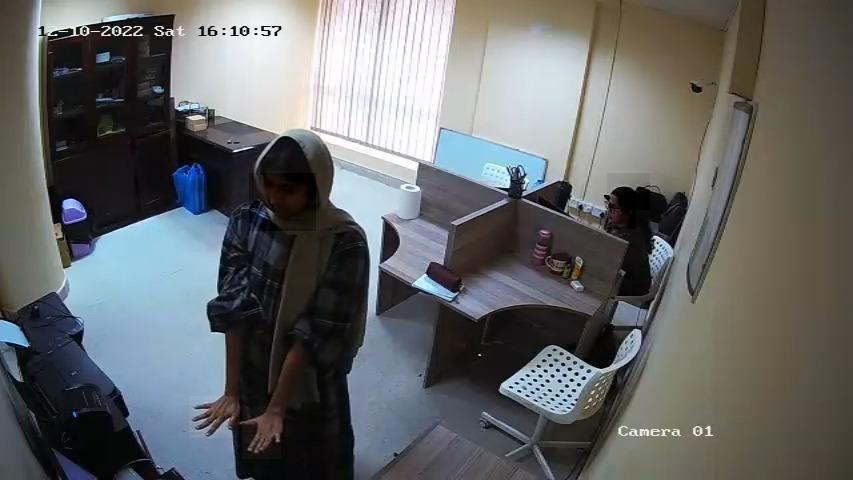no_apron: (190, 397, 240, 439), (242, 407, 281, 460)
no_gloves: (253, 131, 341, 192), (608, 174, 651, 211)
no_hairnet: (249, 174, 316, 232), (605, 196, 637, 229)
